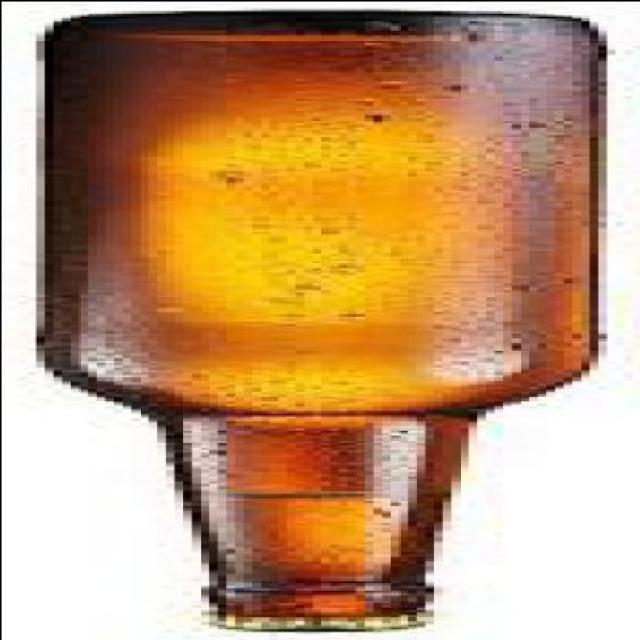GLASS: (43, 10, 614, 621)
METAL: (216, 614, 441, 635)
